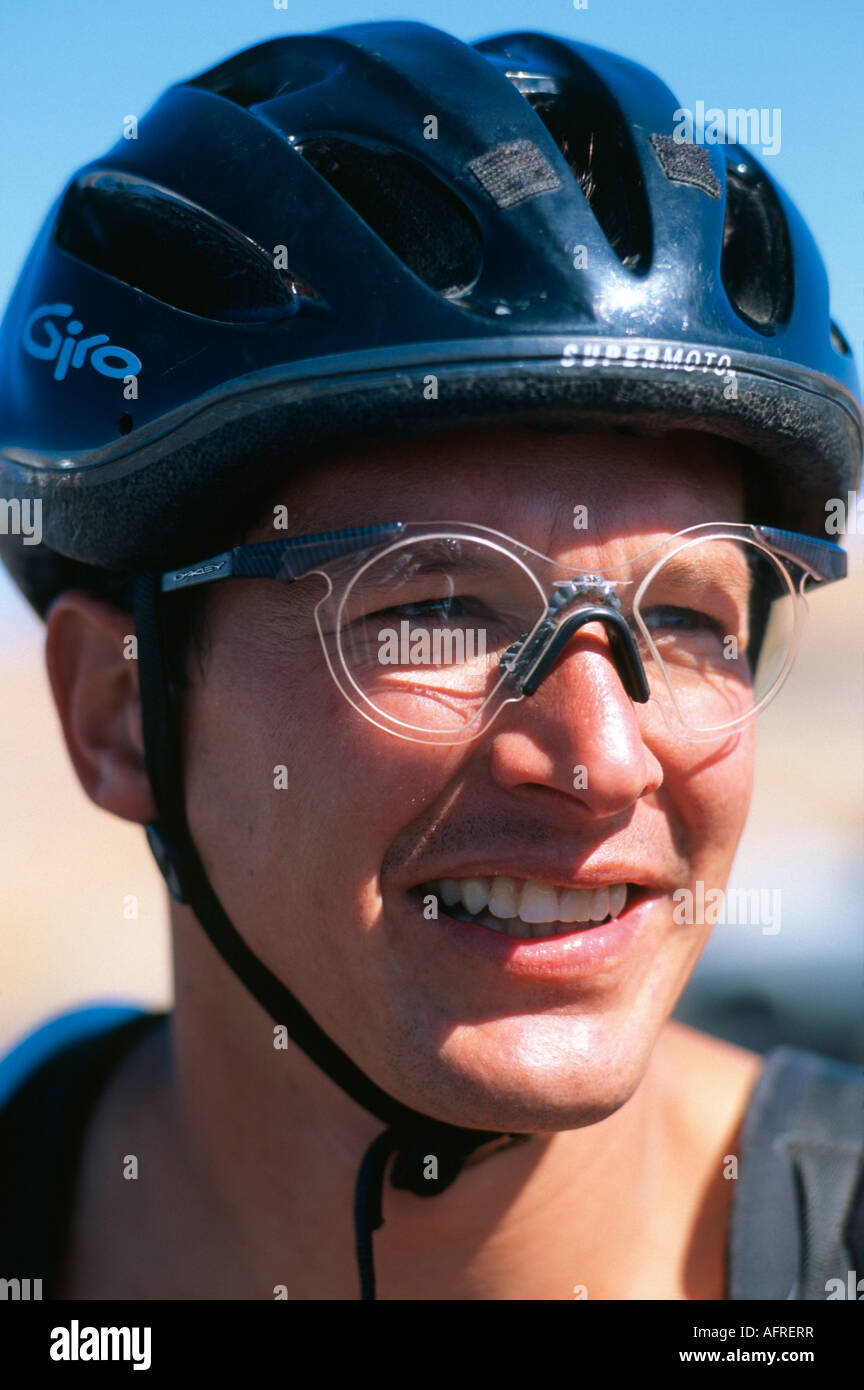helmet: (1, 18, 863, 1132)
